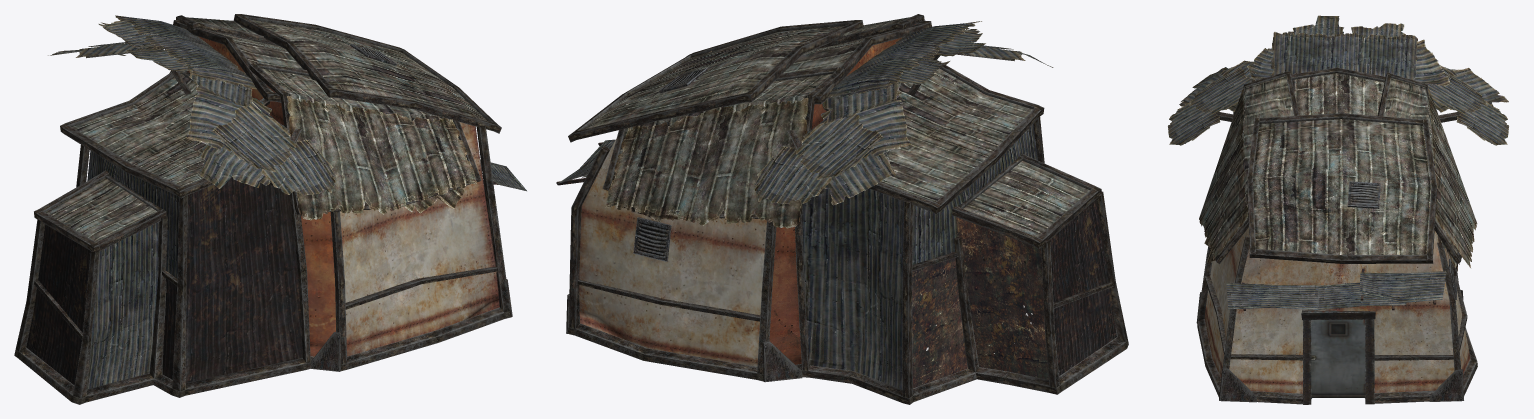
Rendered from megatonburkesshouse.obj.
3 renders of one model, left to right at view 1: azimuth 30°, elevation 25°; view 2: azimuth 150°, elevation 25°; view 3: azimuth 270°, elevation 25°, orthographic. The views are drawn at different scales.
Parts seen in each view (by area): view 1: MegatonBurkessHouse:3, MegatonBurkessHouse:6, MegatonBurkessHouse:55, MegatonBurkessHouse:2; view 2: MegatonBurkessHouse:3, MegatonBurkessHouse:2, MegatonBurkessHouse:6, MegatonBurkessHouse:55; view 3: MegatonBurkessHouse:2, MegatonBurkessHouse:6, MegatonBurkessHouse:3, MegatonBurkessHouse:55, MegatonBurkessHouse:42.
Part boxes in pixels (x1,y1,x2,y2): MegatonBurkessHouse:3: (14,14,526,404); MegatonBurkessHouse:6: (48,15,476,220); MegatonBurkessHouse:55: (187,36,499,356); MegatonBurkessHouse:2: (45,17,498,241); MegatonBurkessHouse:3: (557,14,1128,404); MegatonBurkessHouse:2: (556,17,1089,388); MegatonBurkessHouse:6: (605,21,1053,228); MegatonBurkessHouse:55: (579,24,915,366); MegatonBurkessHouse:2: (1219,73,1458,404); MegatonBurkessHouse:6: (1168,15,1508,271); MegatonBurkessHouse:3: (1196,67,1477,404); MegatonBurkessHouse:55: (1204,227,1470,393); MegatonBurkessHouse:42: (1306,311,1369,397).
Size of the model in its own units: 73.4 by 46.32 by 60.19.
